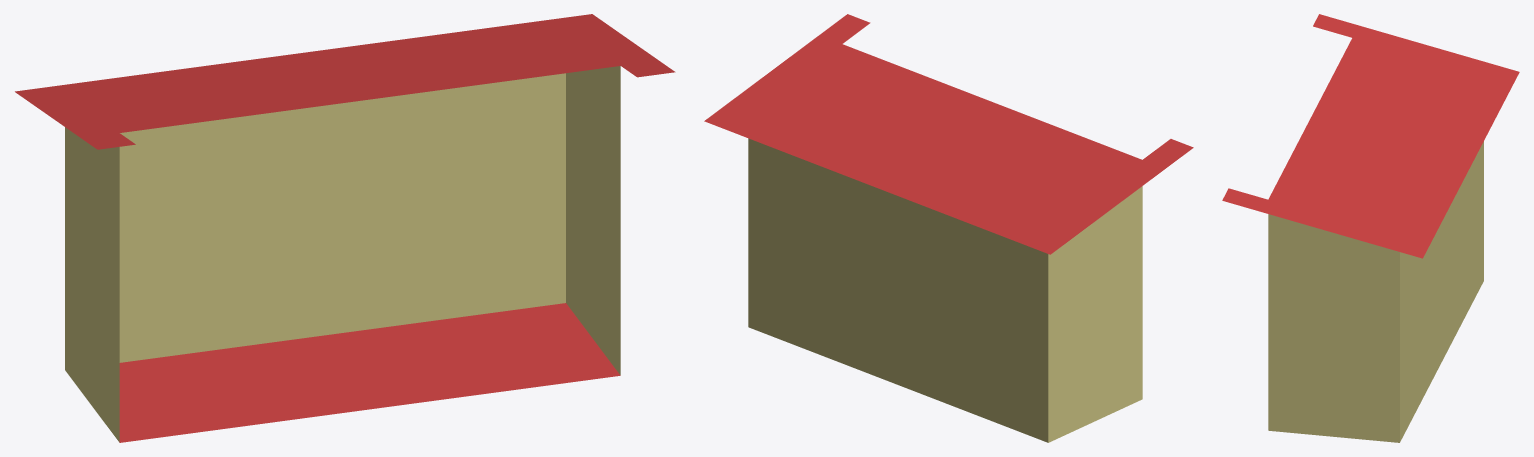
3 views of the same model, side by side, from view 1: azimuth 30°, elevation 25°; view 2: azimuth 150°, elevation 25°; view 3: azimuth 270°, elevation 25° (orthographic). The views are drawn at different scales.
Size of the model in its own units: 16.1 by 9.87 by 8.73.
